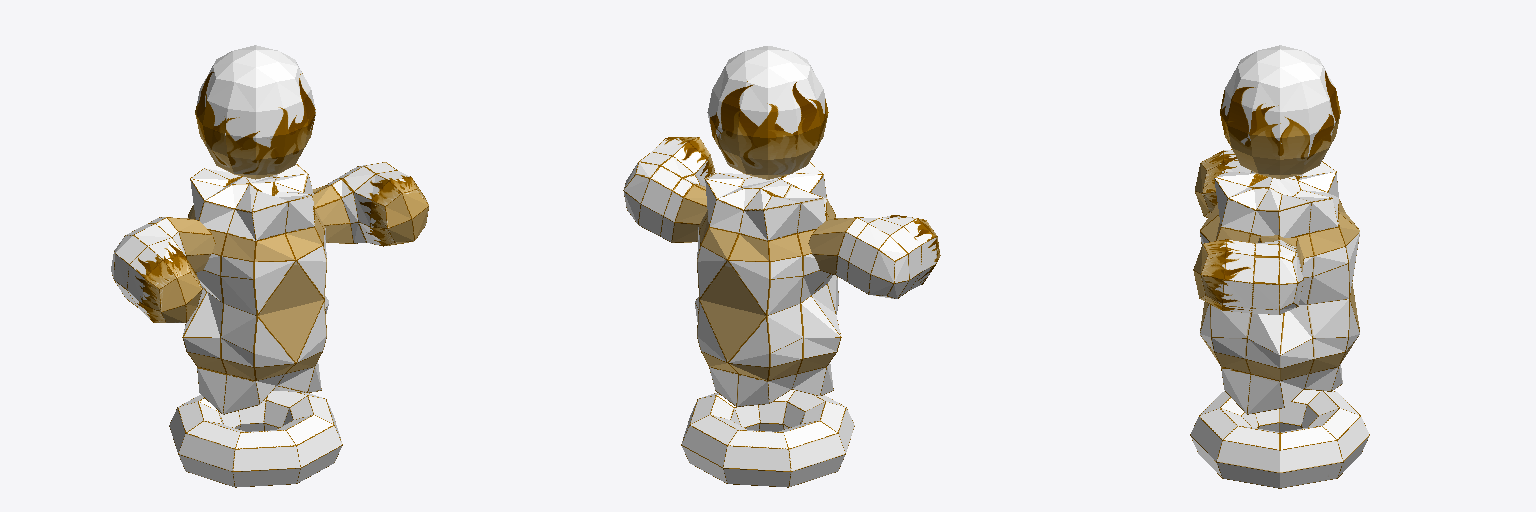
The picture shows the model from 3 angles: view 1: azimuth 30°, elevation 25°; view 2: azimuth 150°, elevation 25°; view 3: azimuth 270°, elevation 25°; orthographic projection.
Parts seen in each view (by area): view 1: polySurface34, textureEditorIsolateSelectSet polySurface34; view 2: polySurface34, textureEditorIsolateSelectSet polySurface34; view 3: polySurface34, textureEditorIsolateSelectSet polySurface34.
Part boxes in pixels (bbox=[...]): polySurface34: bbox=[169, 45, 342, 487]; textureEditorIsolateSelectSet polySurface34: bbox=[111, 162, 428, 322]; polySurface34: bbox=[681, 46, 854, 487]; textureEditorIsolateSelectSet polySurface34: bbox=[623, 137, 940, 298]; polySurface34: bbox=[1190, 45, 1369, 488]; textureEditorIsolateSelectSet polySurface34: bbox=[1193, 149, 1303, 314].
Bounding box in the file's own units: 5.46 × 7.6 × 3.
1 materials, 1 textured.